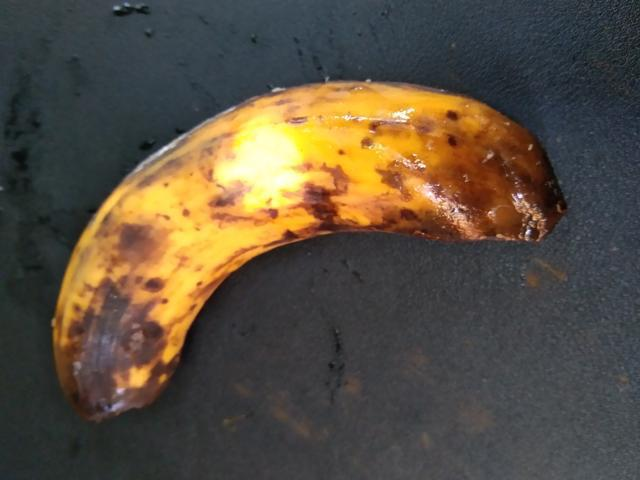rotten: (47, 63, 561, 479)
